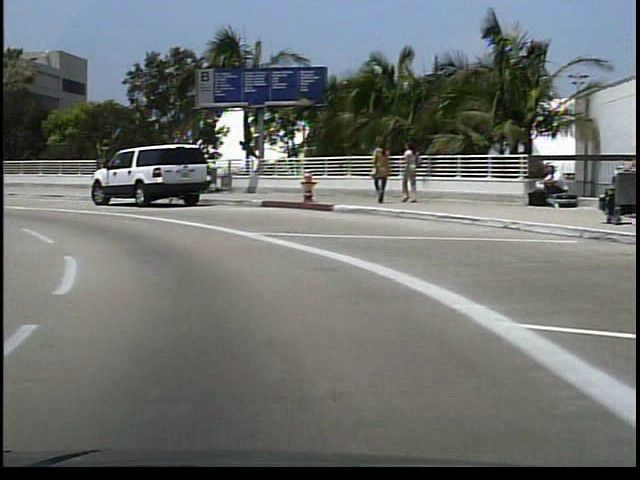person: (367, 136, 390, 210), (393, 142, 418, 206), (530, 164, 565, 208)
